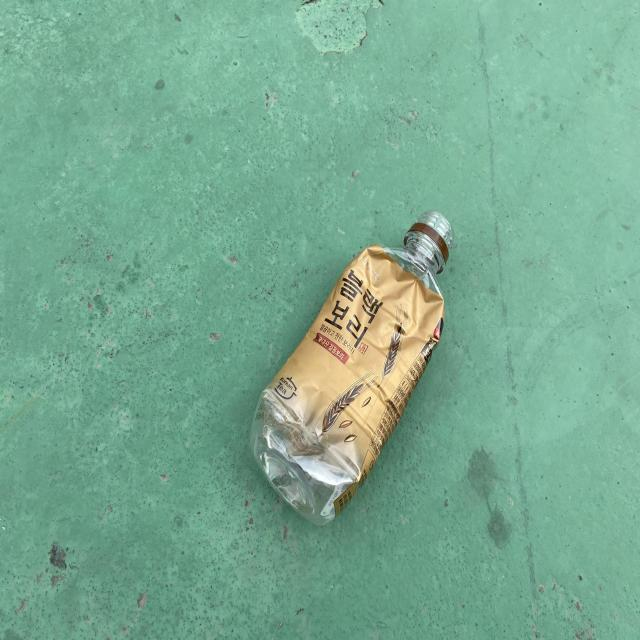plastic: (251, 210, 454, 524)
